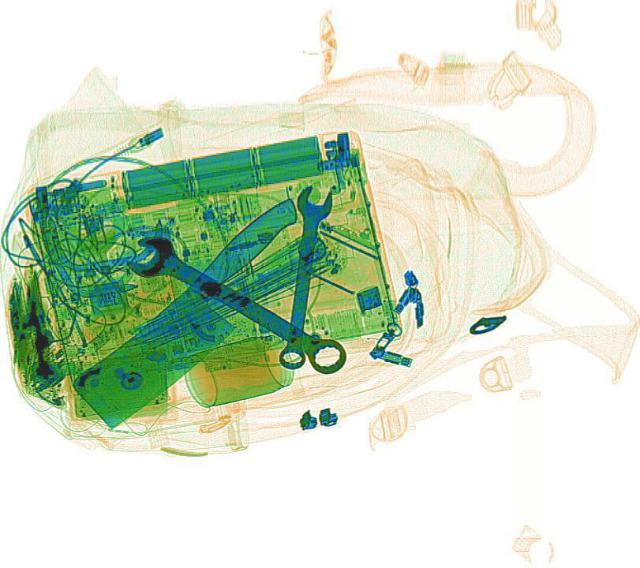Knife: (52, 191, 344, 430)
Wrench: (116, 227, 358, 381), (273, 184, 335, 370)
